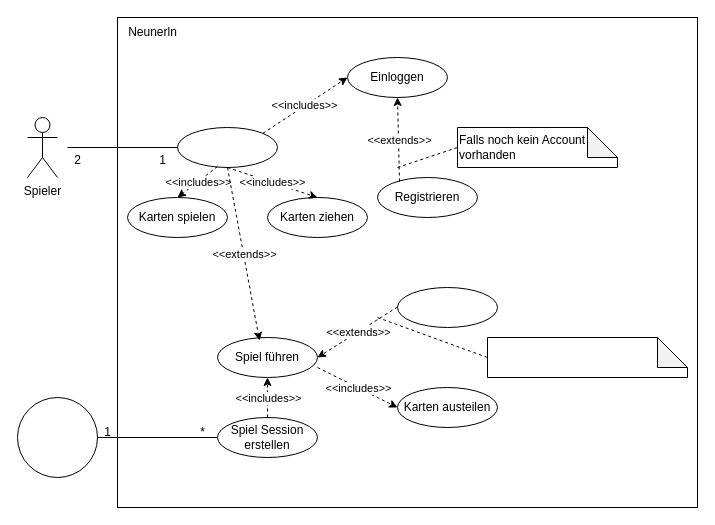
The diagram is 715 pixels wide and 525 high, and some of its shapes have lost their labels. Each missing label, with the centre of its shape:
"Bei neuem Spiel/Nachdem alle Karten gespielt wurden" belongs at (587,357).
"Karten mischen" belongs at (447,307).
"Neunerln spielen" belongs at (227,147).
"System" belongs at (57,437).
